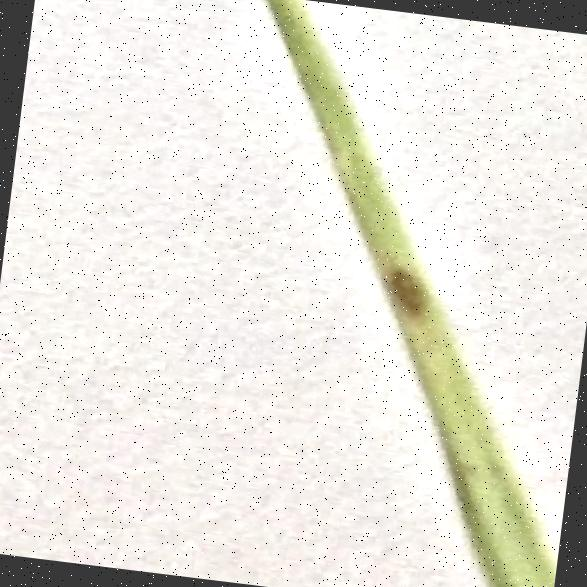Leaf_smut: (372, 253, 440, 322)
